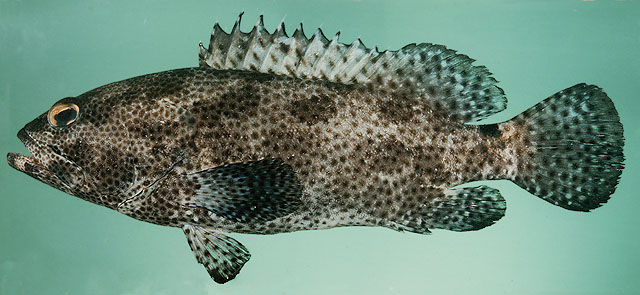fish: (5, 9, 626, 284)
